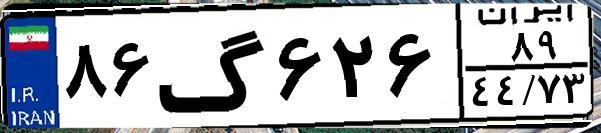2: (330, 28, 385, 110)
3: (560, 70, 590, 125)
4: (470, 70, 495, 125), (495, 70, 520, 125)
6: (270, 28, 330, 110), (385, 28, 445, 110), (110, 28, 156, 98)
7: (535, 70, 560, 125)
8: (57, 26, 110, 100), (508, 27, 537, 80)
9: (537, 27, 568, 80)
گ: (156, 12, 270, 120)
